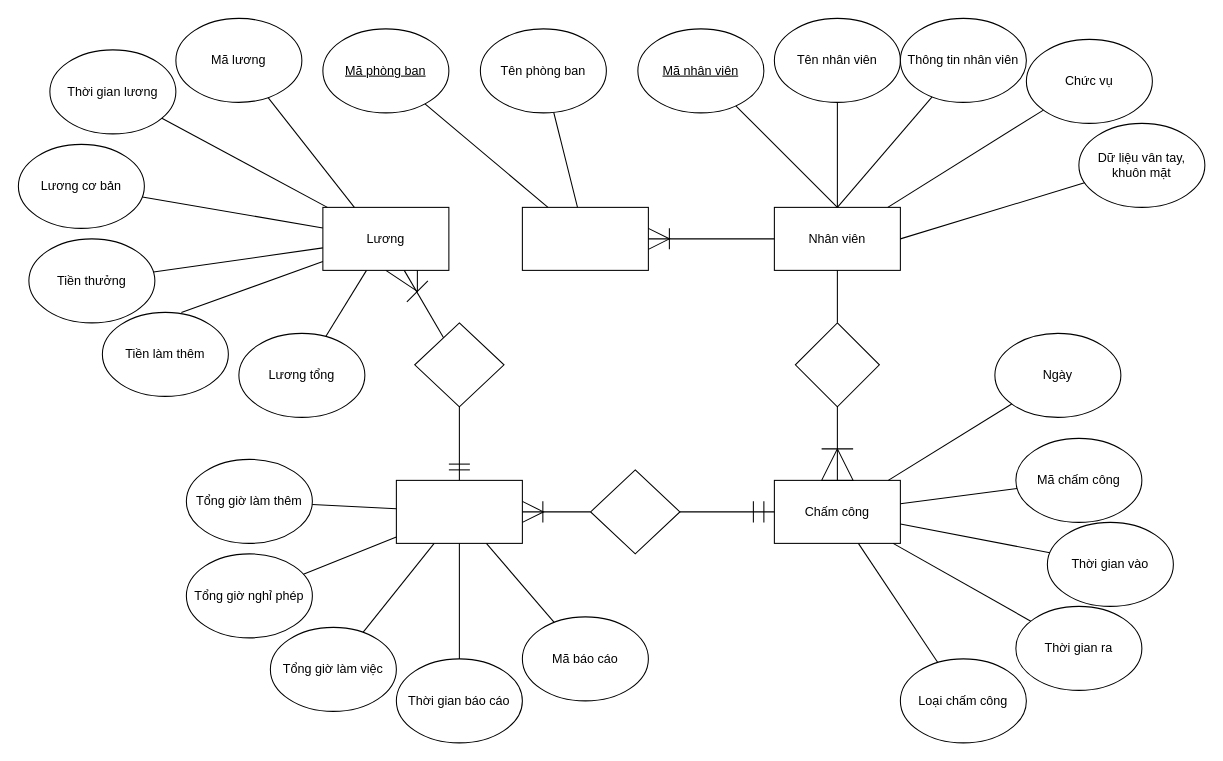
The diagram is 1223 pixels wide and 761 high, and some of its shapes have lost their labels. The centre of each missing label's shape, as x and y in pixels:
Báo cáo: pixel 458 511
Có: pixel 635 511
Làm việc: pixel 836 364
Nhận: pixel 459 364
Phòng ban: pixel 584 238
